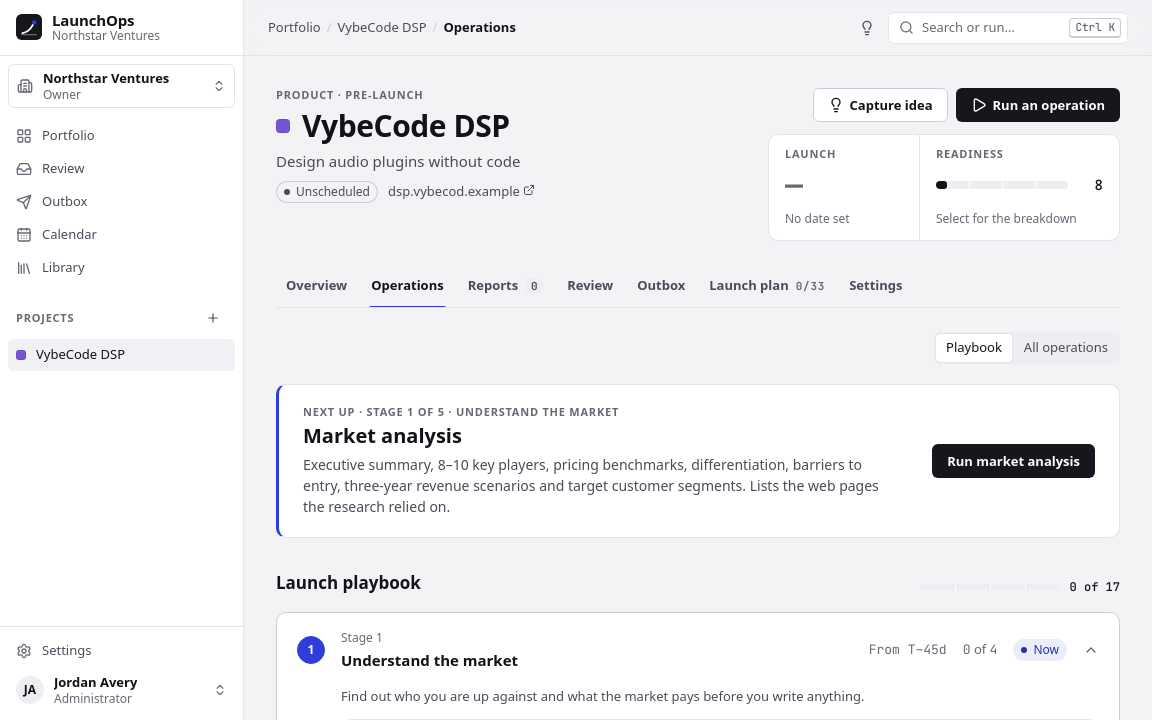
it: The launch playbook › opens the run sheet for the recommended operation
The image size is (1152, 720).
Click the button "Run market analysis": coordinates (1014, 461) [932,444,1095,478]
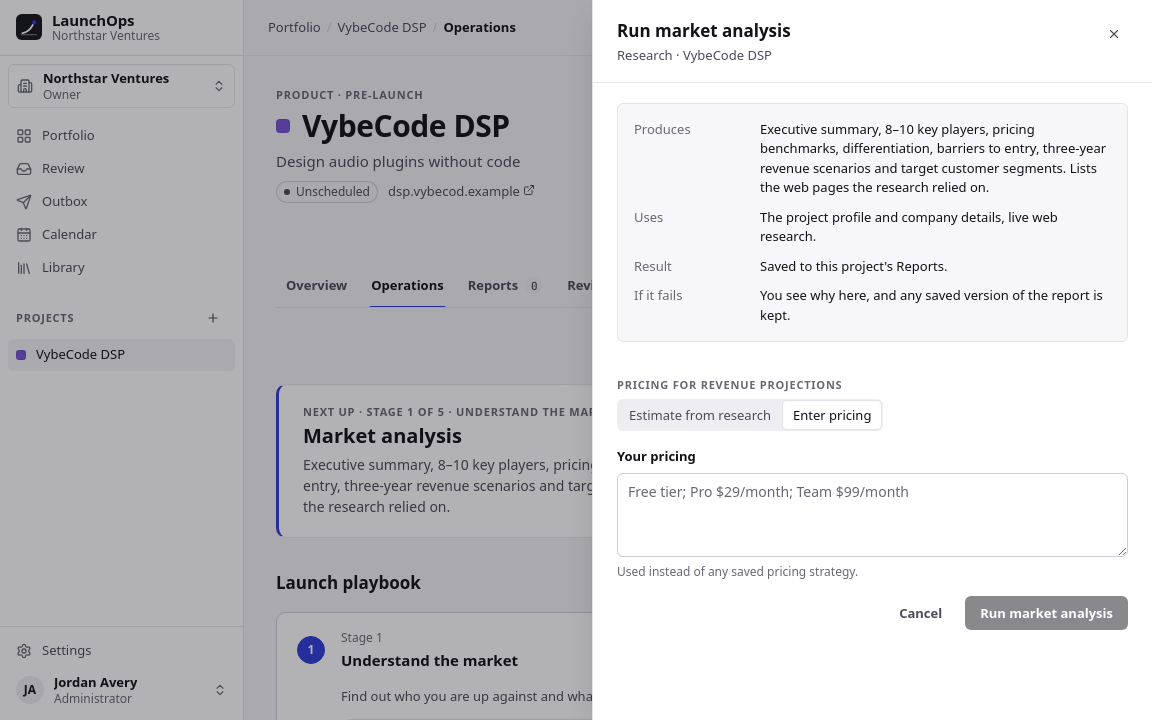
Expected: the dialog "Run market analysis" is shown, [592,0,1151,719]
